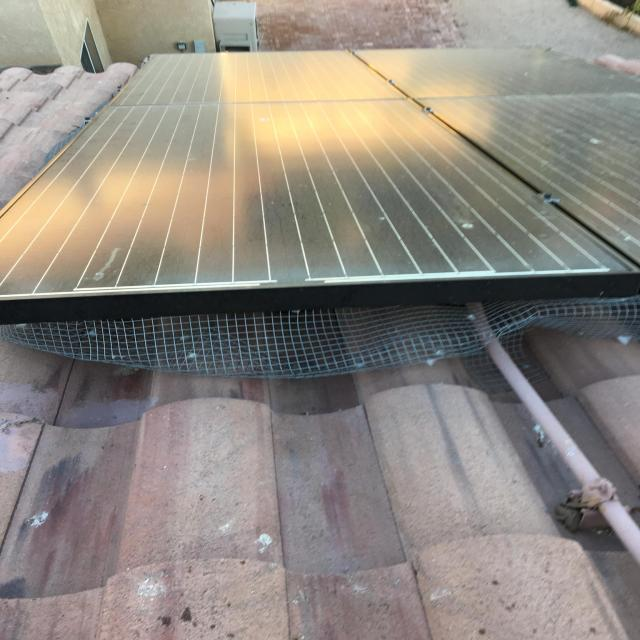dust-solar-panel: (0, 45, 640, 306)
